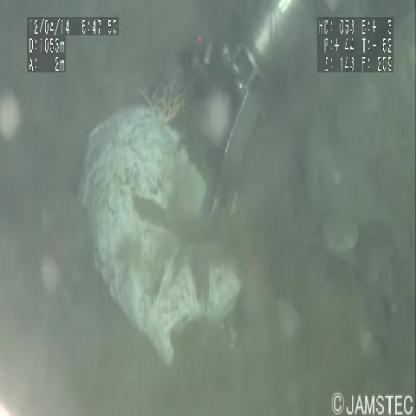Rác: (80, 108, 244, 364)
